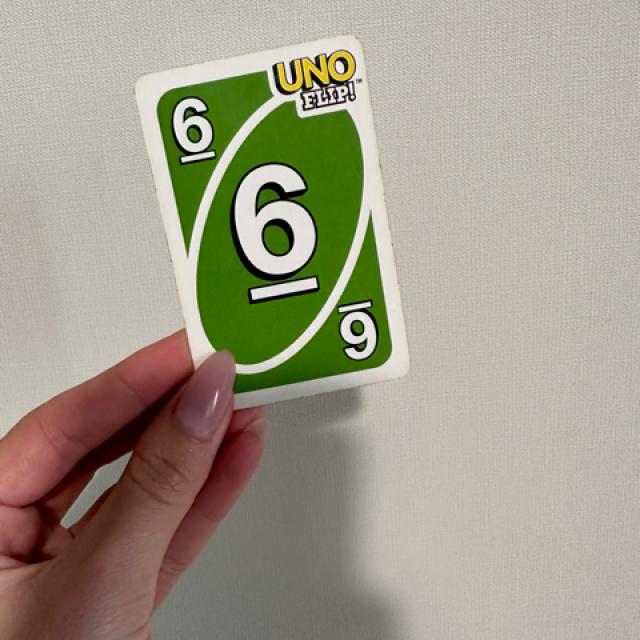lgreen-6: (160, 79, 227, 173)
